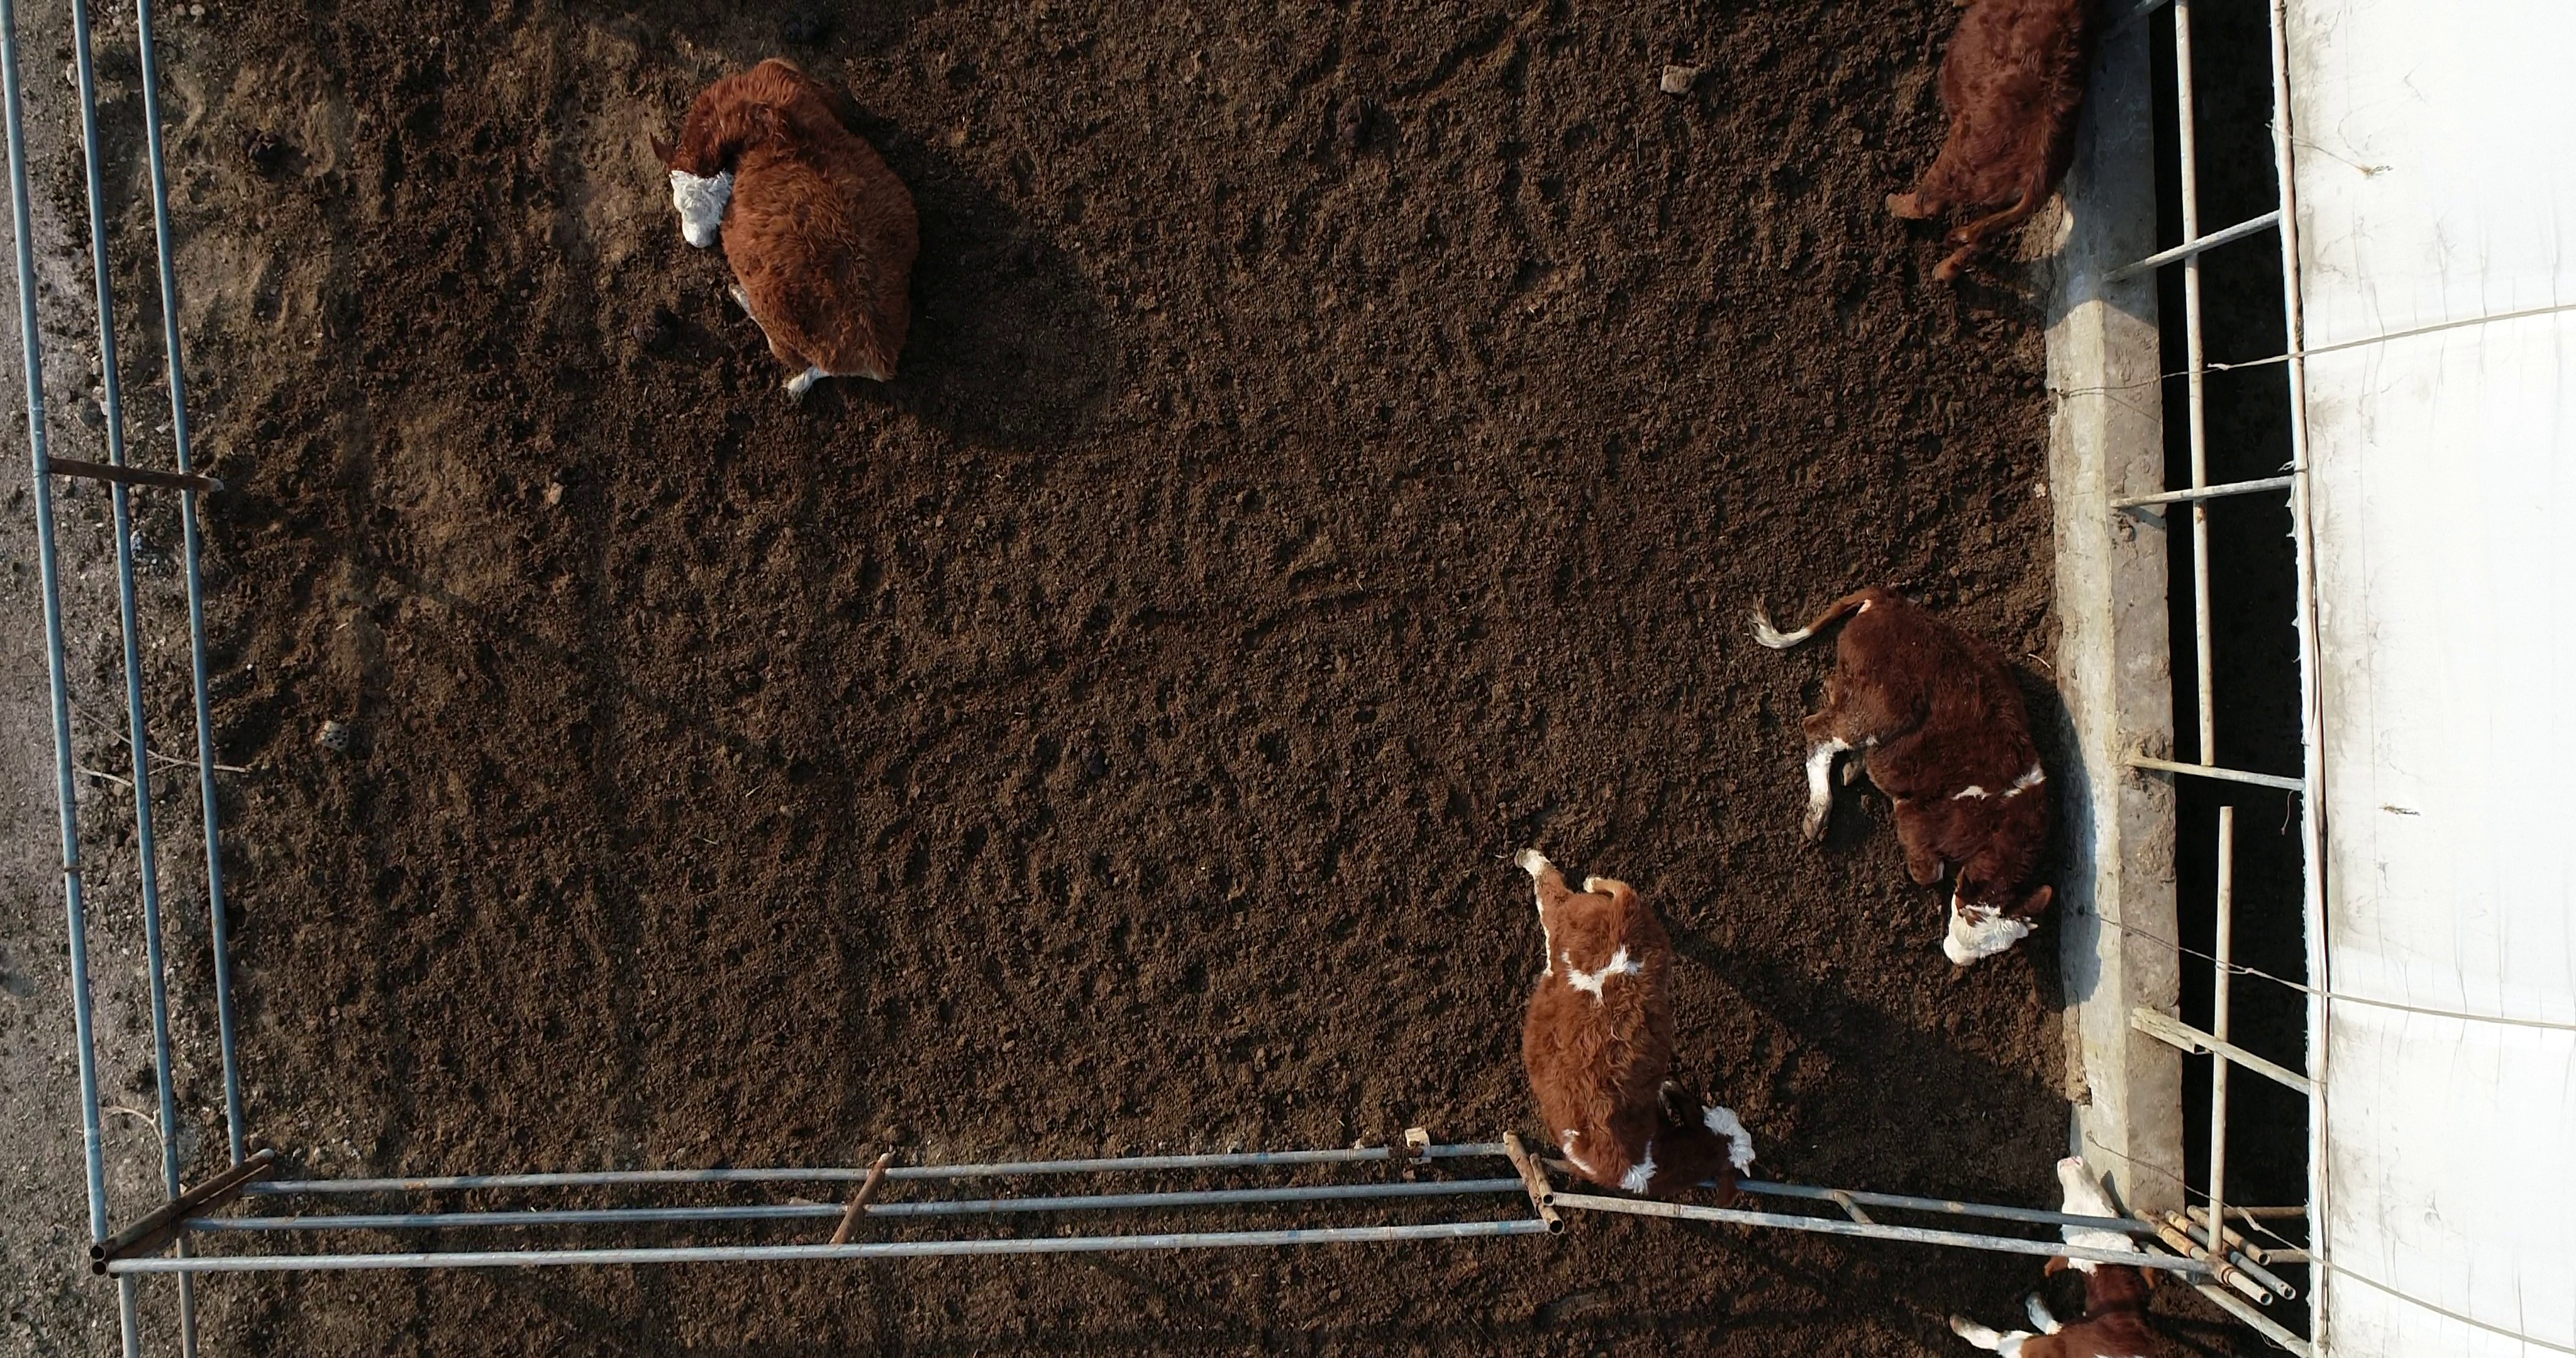cattle: (642, 53, 935, 404), (1506, 835, 1760, 1201)
